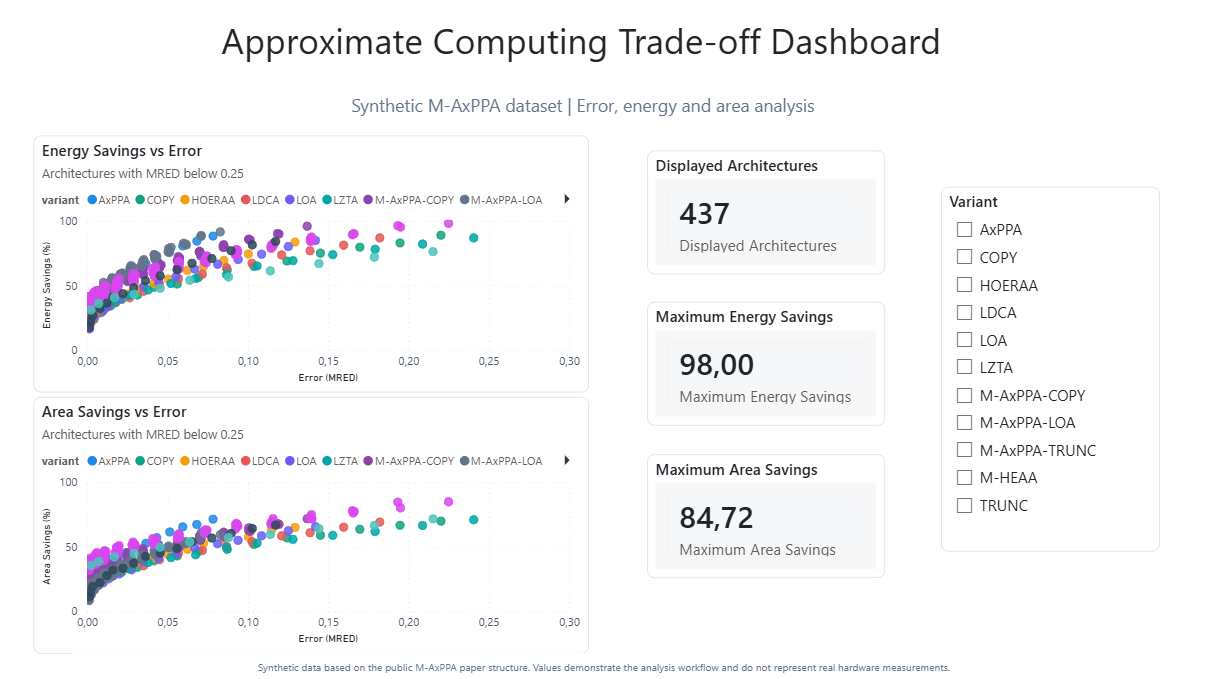

The dashboard page shown, as its layout file describes it:
{"tool":"powerbi","page":{"name":"Page 1","canvas":[1280,720],"ordinal":0},"visuals":[{"type":"scatterChart","title":"Energy Savings vs Error","fields":{"Y":["Sum(m_axppa_powerbi_dataset.energy_saving_pct)"],"X":["Sum(m_axppa_powerbi_dataset.mred)"],"Category":["m_axppa_powerbi_dataset.architecture_id"],"Series":["m_axppa_powerbi_dataset.variant"]},"box":[40,145,585,270],"z":0},{"type":"scatterChart","title":"Area Savings vs Error","fields":{"X":["Sum(m_axppa_powerbi_dataset.mred)"],"Category":["m_axppa_powerbi_dataset.architecture_id"],"Series":["m_axppa_powerbi_dataset.variant"],"Y":["Sum(m_axppa_powerbi_dataset.area_saving_pct)"]},"box":[40,420,585,270],"z":1000},{"type":"cardVisual","title":"Displayed Architectures","fields":{"Data":["m_axppa_powerbi_dataset.Displayed Architectures"]},"box":[685,160,250,130],"z":2000},{"type":"slicer","title":"Variant","fields":{"Values":["m_axppa_powerbi_dataset.variant"]},"box":[994.7,198.7,230.3,384.2],"z":3000},{"type":"cardVisual","title":"Maximum Energy Savings","fields":{"Data":["m_axppa_powerbi_dataset.Maximum Energy Savings"]},"box":[685,320,250,130],"z":4000},{"type":"textbox","box":[221.2,95,793.8,62.5],"z":5000},{"type":"cardVisual","title":"Maximum Area Savings","fields":{"Data":["m_axppa_powerbi_dataset.Maximum Area Savings"]},"box":[685,480,250,130],"z":6000},{"type":"textbox","box":[183.8,15,863.8,80],"z":7000},{"type":"textbox","box":[80.3,689.5,1119.7,30.3],"z":8000}]}

Visuals, with their boxes in screenshot pixels (x1, y1, x2, y2), scaled from the page's 1280x720 canvas onto the 1206x679 screenshot:
"Energy Savings vs Error" scatterChart: 38 137 589 391
"Area Savings vs Error" scatterChart: 38 396 589 651
"Displayed Architectures" cardVisual: 645 151 881 273
"Variant" slicer: 937 187 1154 550
"Maximum Energy Savings" cardVisual: 645 302 881 424
textbox: 208 90 956 149
"Maximum Area Savings" cardVisual: 645 453 881 575
textbox: 173 14 987 90
textbox: 76 650 1131 678
